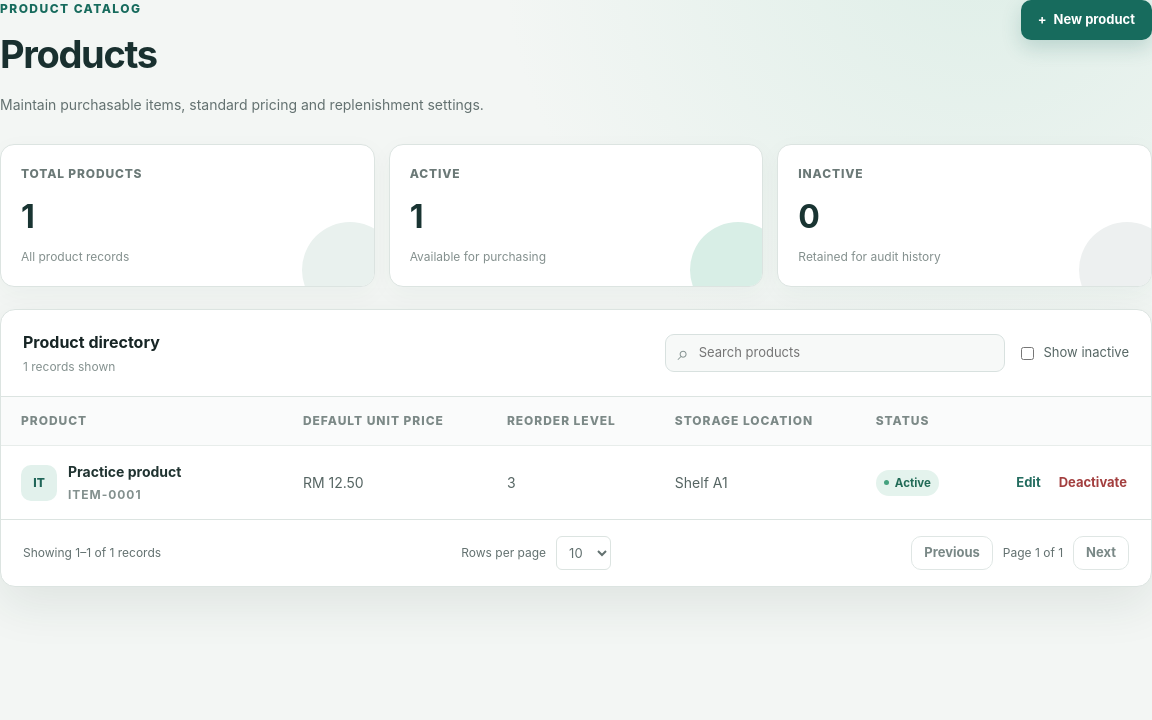
Test case: ProductListView storage location › displays and searches the storage location
Check: the text "Storage location" is shown, box [675, 413, 813, 428]
Check: the table shows "Shelf A1", box [675, 474, 728, 491]
Type "SHELF A1" into the search field labelled "⌕".
click(844, 353); type("SHELF A1")  # box [697, 342, 992, 364]
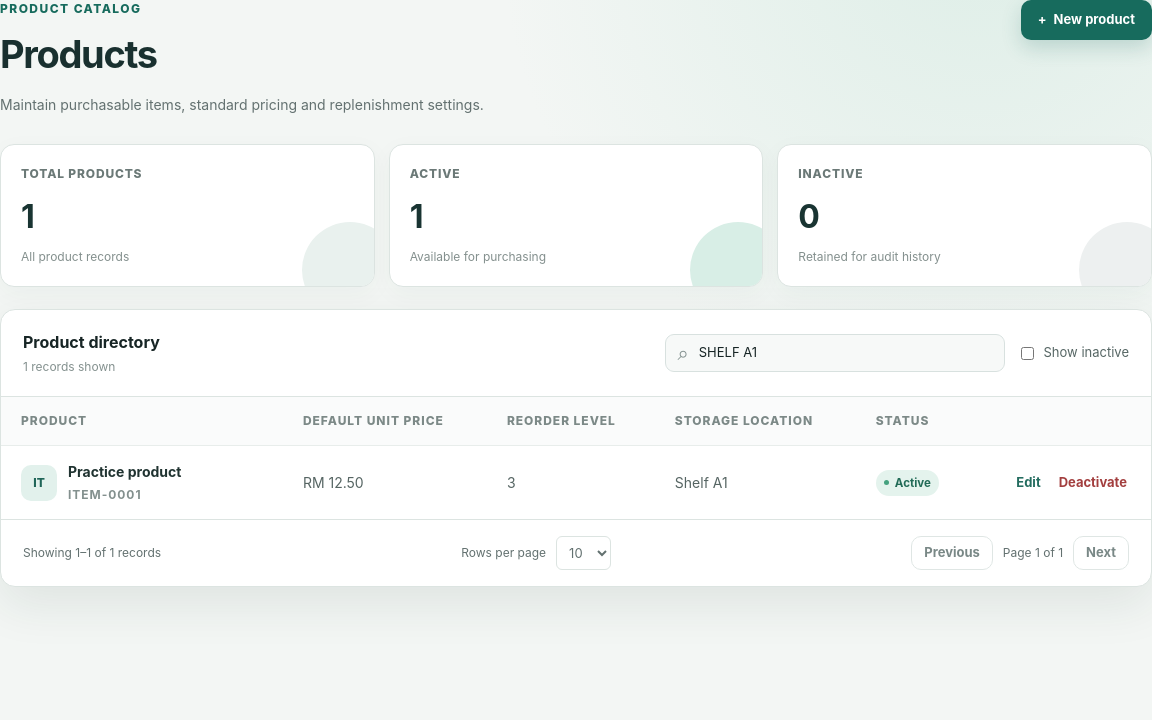
Check: the table shows "ITEM-0001", box [68, 487, 142, 502]
Replace the text in the search field labelled "⌕" with "Shelf Z99" at (844, 353), box [697, 342, 992, 364]
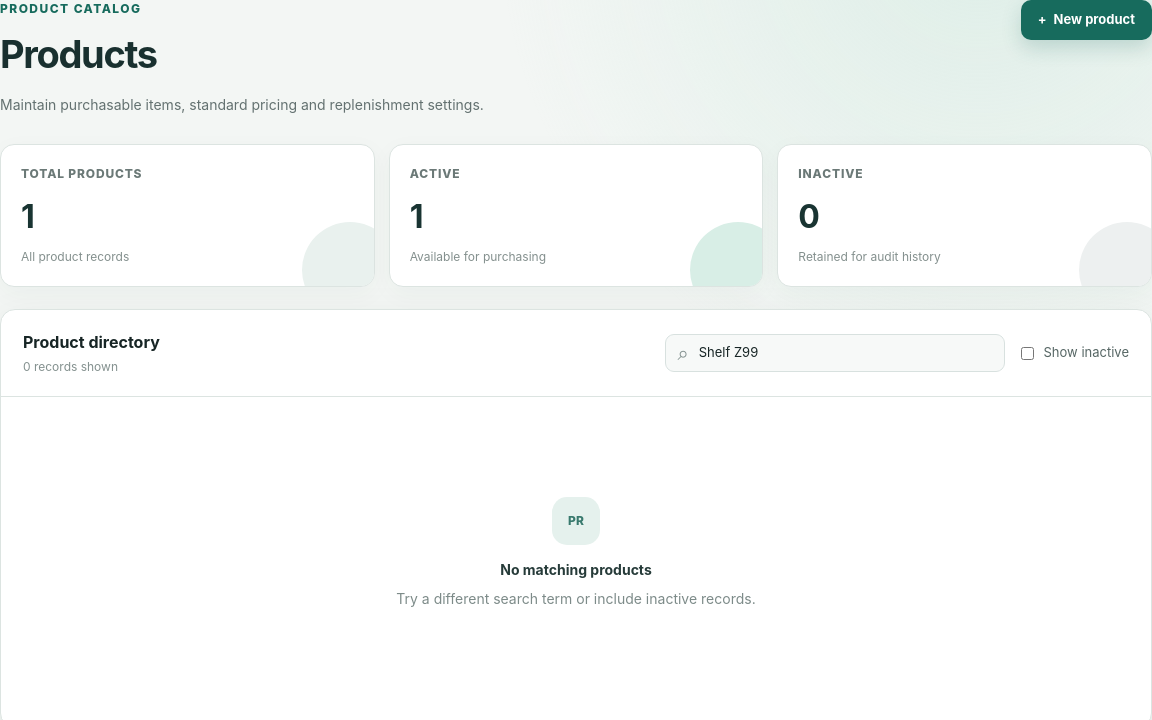
Check: the text "No matching products" is shown, box [500, 559, 652, 580]
